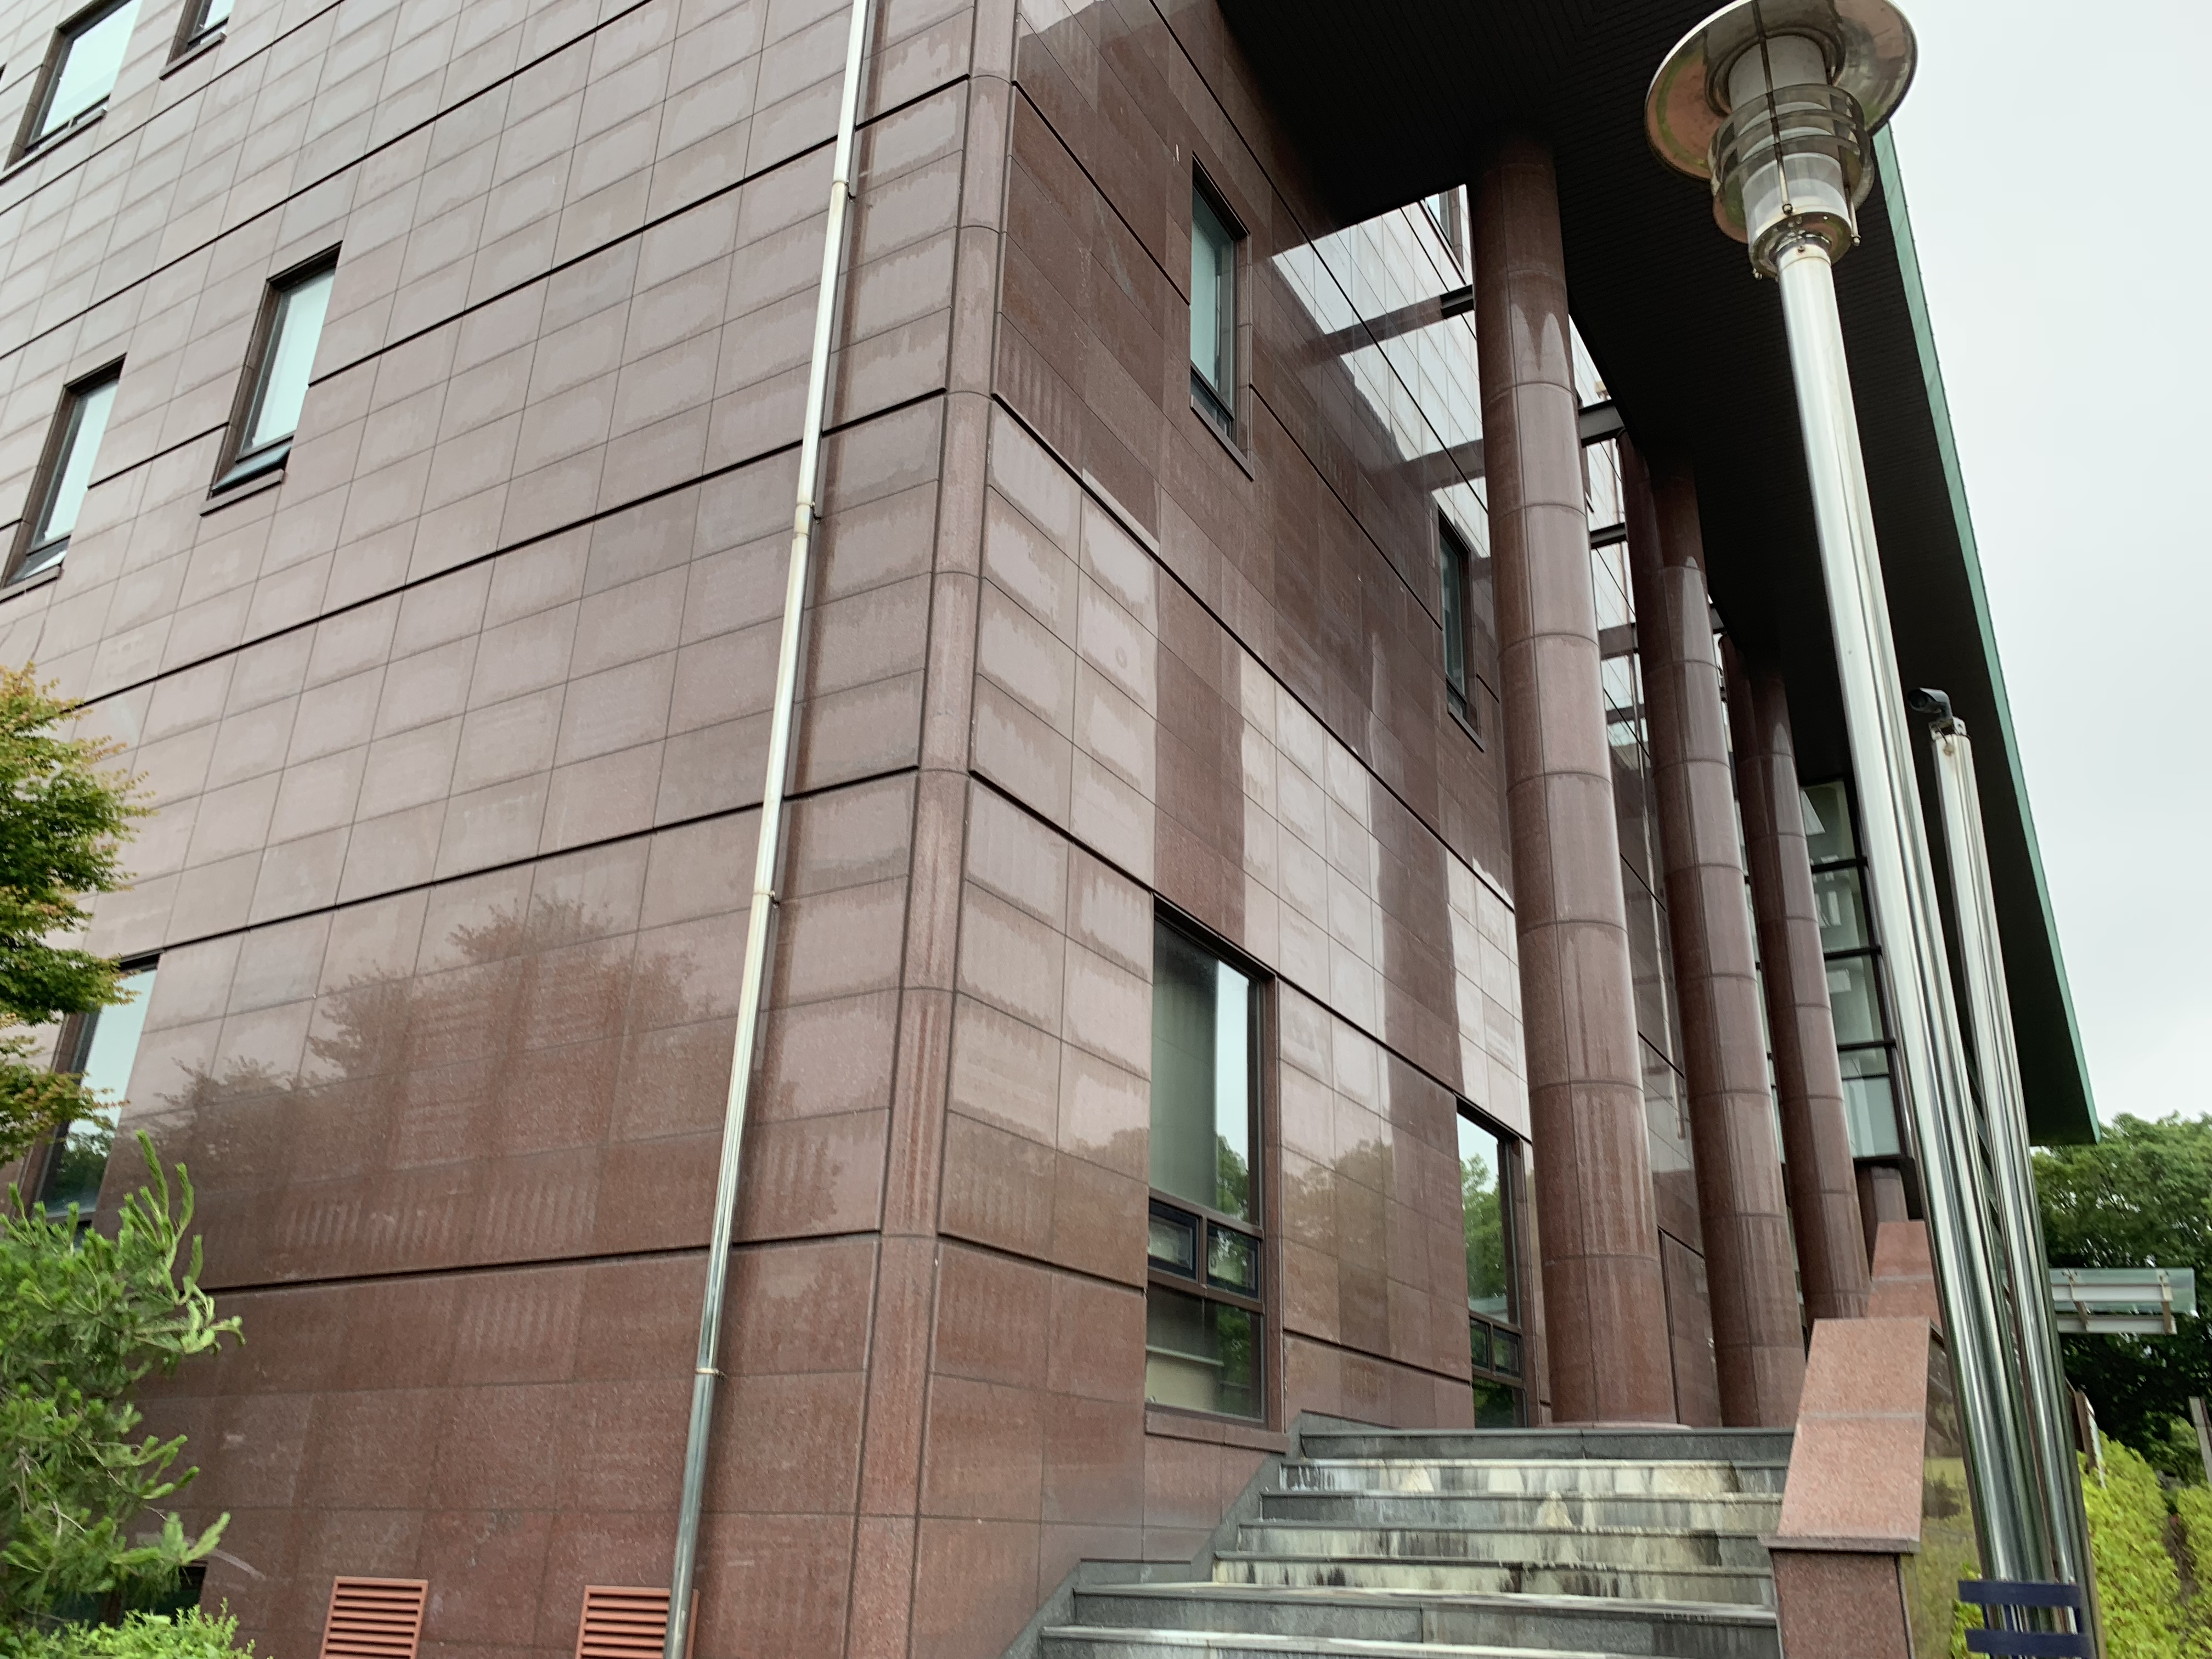Museum: (51, 30, 2050, 1624)
